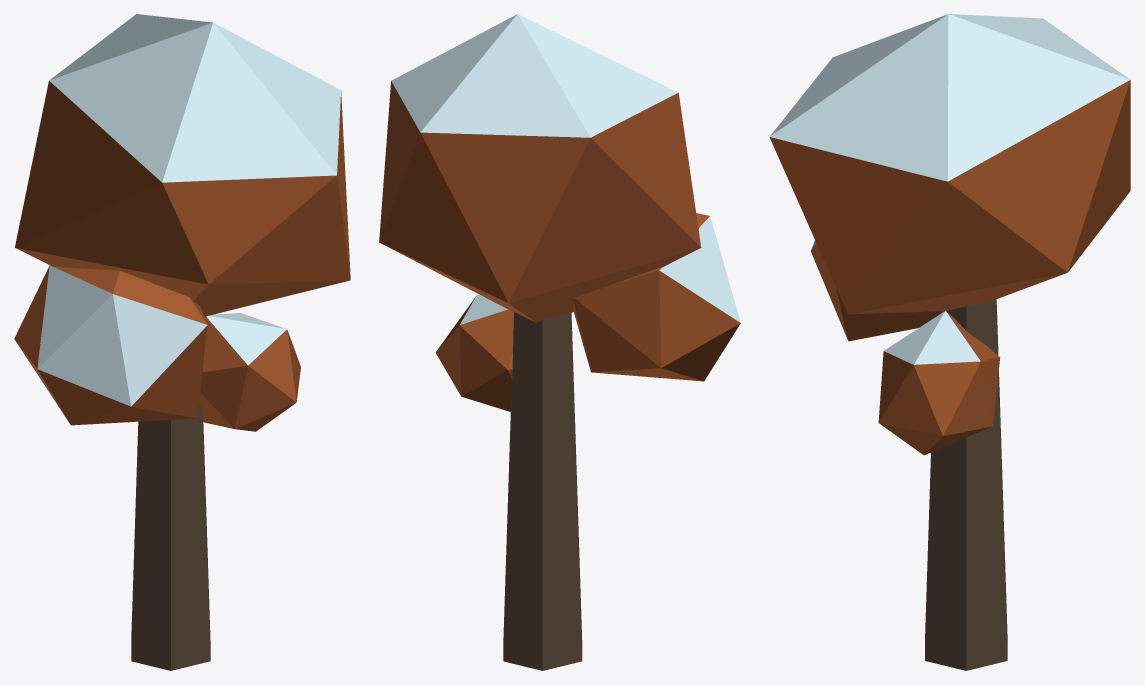
The model's file is SM_Env_Generic_Tree_04_Snow.fbx.
3 renders of one model, left to right at view 1: azimuth 30°, elevation 25°; view 2: azimuth 150°, elevation 25°; view 3: azimuth 270°, elevation 25°, orthographic. The views are drawn at different scales.
Parts seen in each view (by area): view 1: SM_Env_Generic_Tree_04_Snow; view 2: SM_Env_Generic_Tree_04_Snow; view 3: SM_Env_Generic_Tree_04_Snow.
Part boxes in pixels (x1=…): SM_Env_Generic_Tree_04_Snow: x1=14, y1=14, x2=350, y2=670; SM_Env_Generic_Tree_04_Snow: x1=379, y1=14, x2=740, y2=670; SM_Env_Generic_Tree_04_Snow: x1=769, y1=14, x2=1130, y2=670.
Bounding box in the file's own units: 52.93 × 96.74 × 48.41.
Materials: 1 (1 with a texture image).
